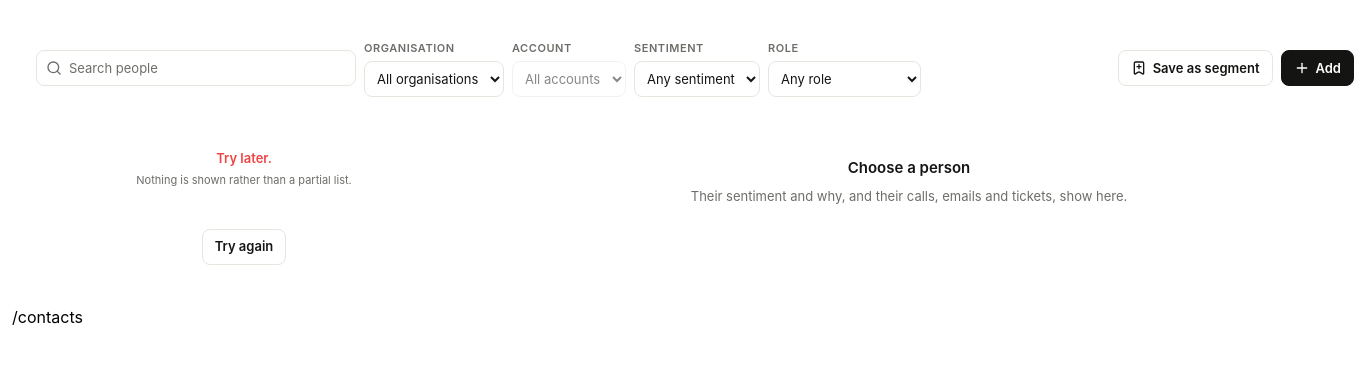
Test: Contacts page (spec 2026-09-28 §3) › a failed read offers Try again
Expected: the message shows "Try later.", [216,150,272,166]
Click the button "Try again" at [244, 246], box [202,228,286,264]
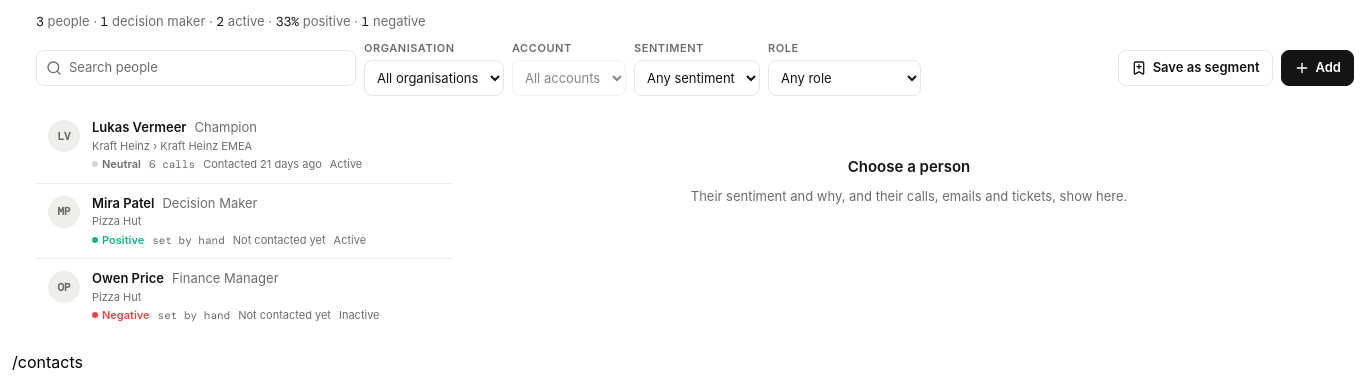
Result: the list named "People" is shown at [36,108,452,334]
